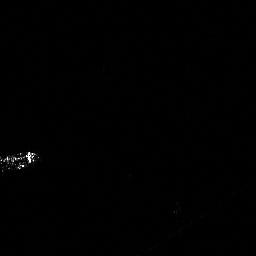ship: (1, 149, 44, 175)
